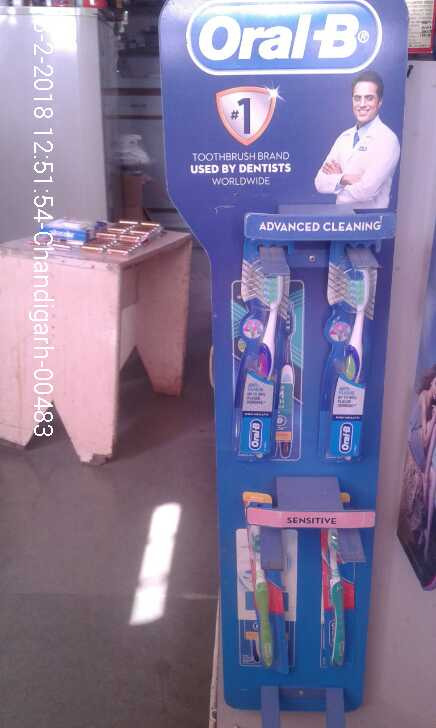oralb: (227, 262, 311, 461), (322, 261, 376, 469), (311, 523, 360, 667), (241, 527, 284, 682)
